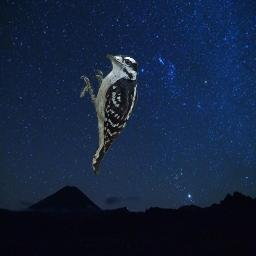Woodpecker: (80, 52, 145, 175)
